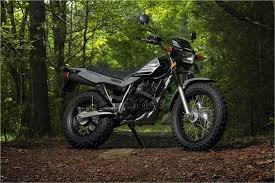motor: (51, 36, 226, 149)
